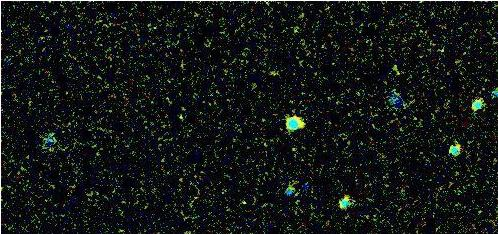star: (227, 187, 257, 217)
